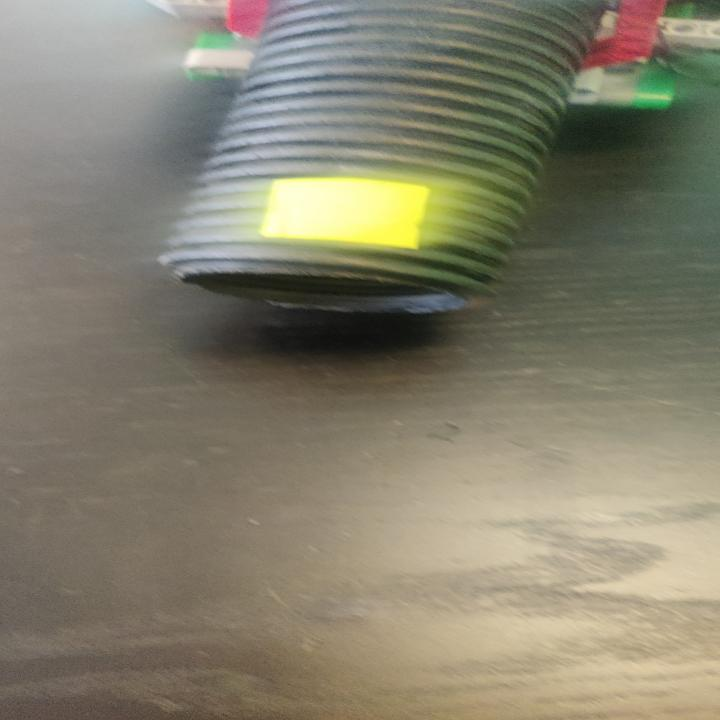robot-front: (186, 1, 607, 313)
